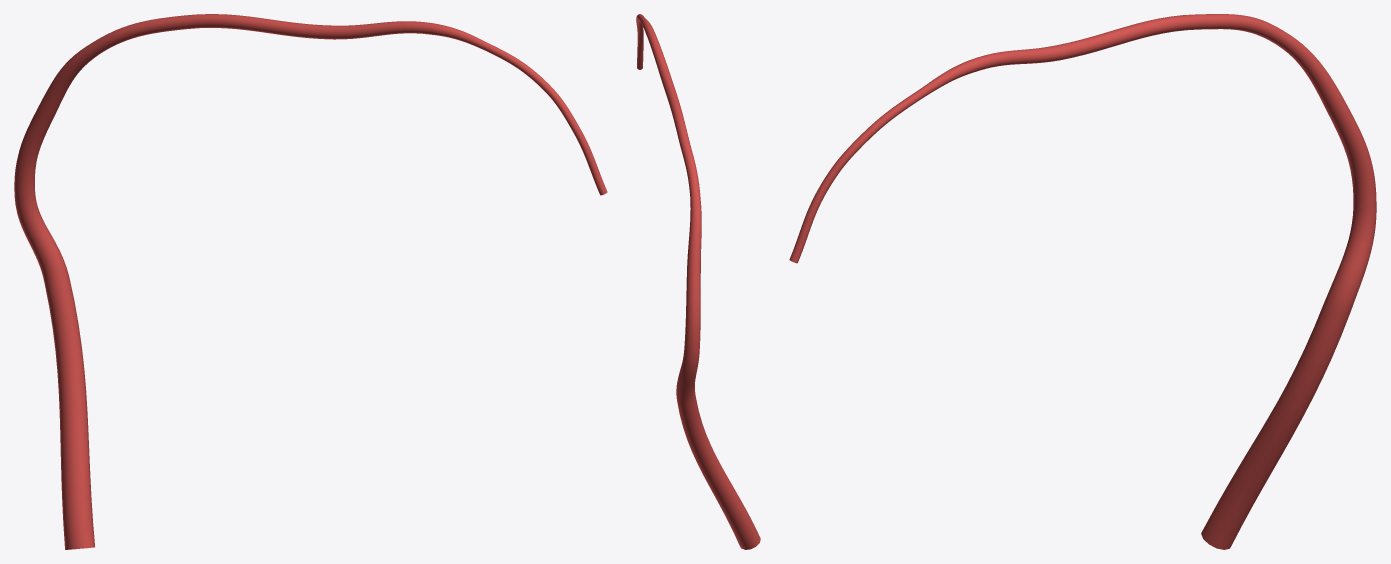
The picture shows the model from 3 angles, left to right: view 1: azimuth 30°, elevation 25°; view 2: azimuth 150°, elevation 25°; view 3: azimuth 270°, elevation 25°; orthographic projection. The views are drawn at different scales.
Visible parts, largest first — view 1: 左侧旋股内侧动脉; view 2: 左侧旋股内侧动脉; view 3: 左侧旋股内侧动脉.
Boxes of the visible parts, x1,y1,x2,y2 form: 左侧旋股内侧动脉: (14, 14, 607, 549); 左侧旋股内侧动脉: (636, 14, 760, 549); 左侧旋股内侧动脉: (789, 14, 1376, 549).
Size of the model in its own units: 0.0515 by 0.0772 by 0.0665.
